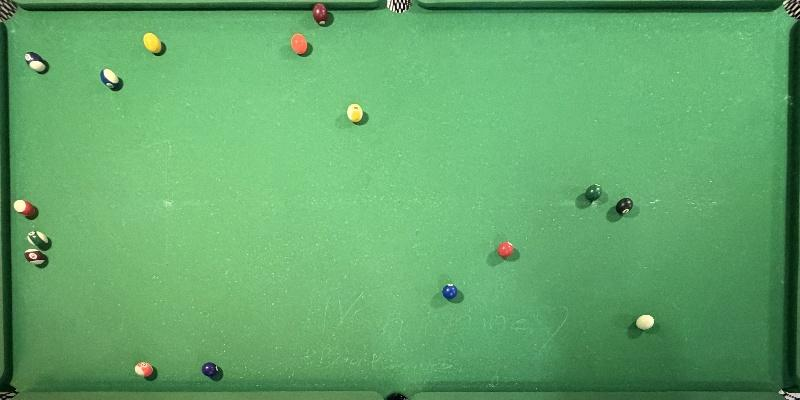bola: (288, 33, 312, 58), (96, 69, 122, 92), (140, 31, 163, 57), (22, 52, 47, 74), (343, 103, 366, 125), (311, 1, 330, 27), (25, 230, 52, 248), (132, 361, 157, 380), (22, 249, 48, 267), (12, 198, 33, 218), (496, 241, 517, 261), (634, 313, 656, 332), (584, 183, 604, 203), (614, 198, 636, 216), (199, 362, 221, 379), (442, 283, 458, 302)
